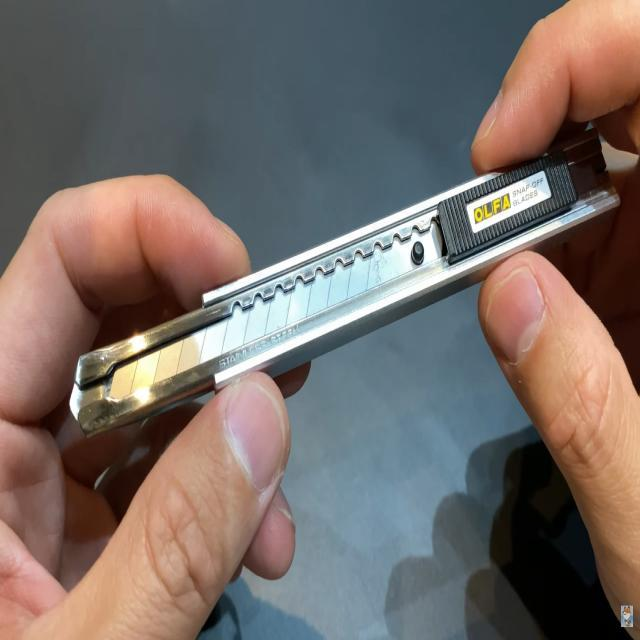cutter: (18, 2, 640, 476)
